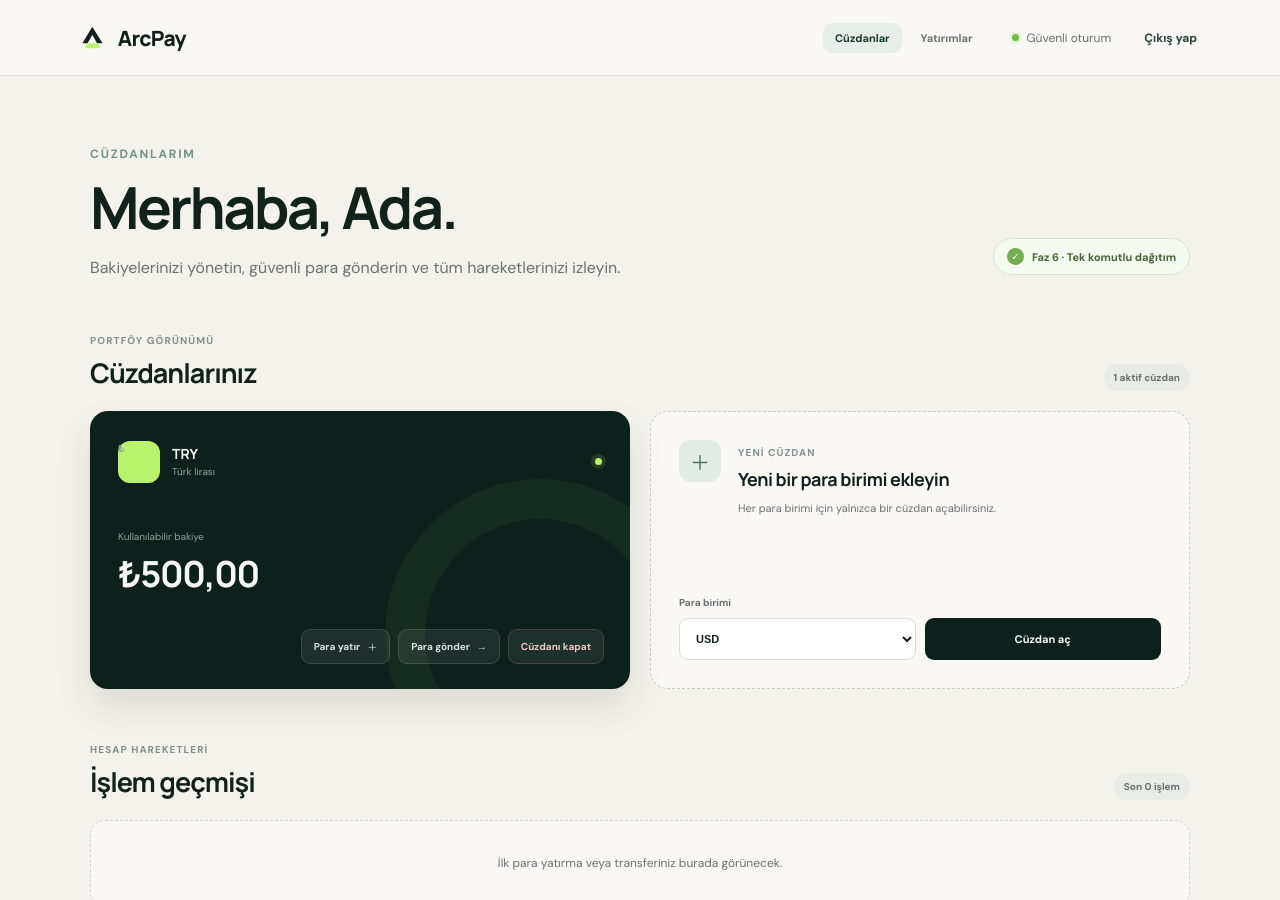
Test: ArcPay authentication flow › shows an unknown recipient error inside the transfer dialog
Expected: the text "₺500,00" is shown, [118,549,259,598]
Click the button "Para gönder →" at [449, 647], box [398,629,500,664]
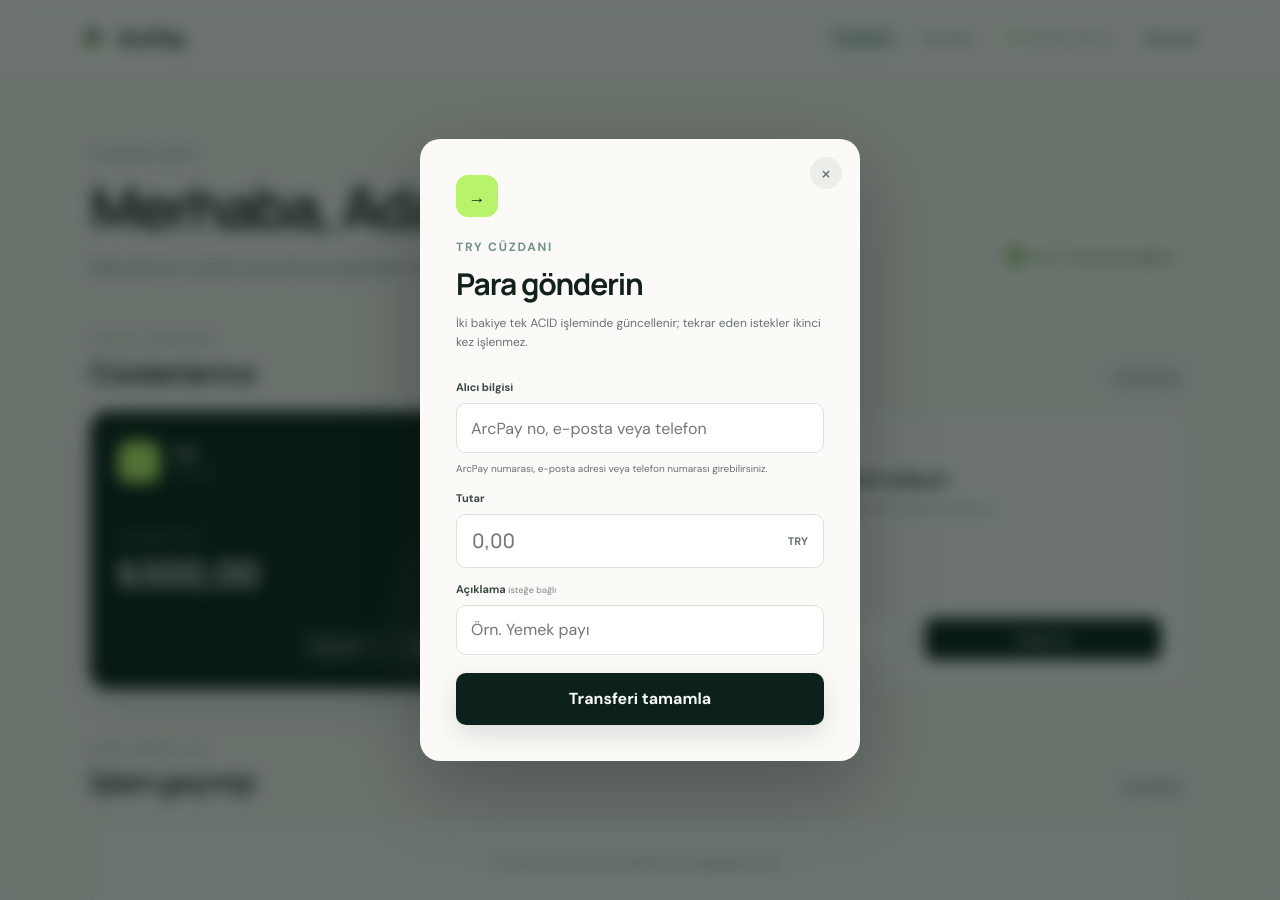
Type "yanlis@arcpay.test" into the field labelled "Alıcı bilgisi" at [640, 428], box [456,403,824,453]
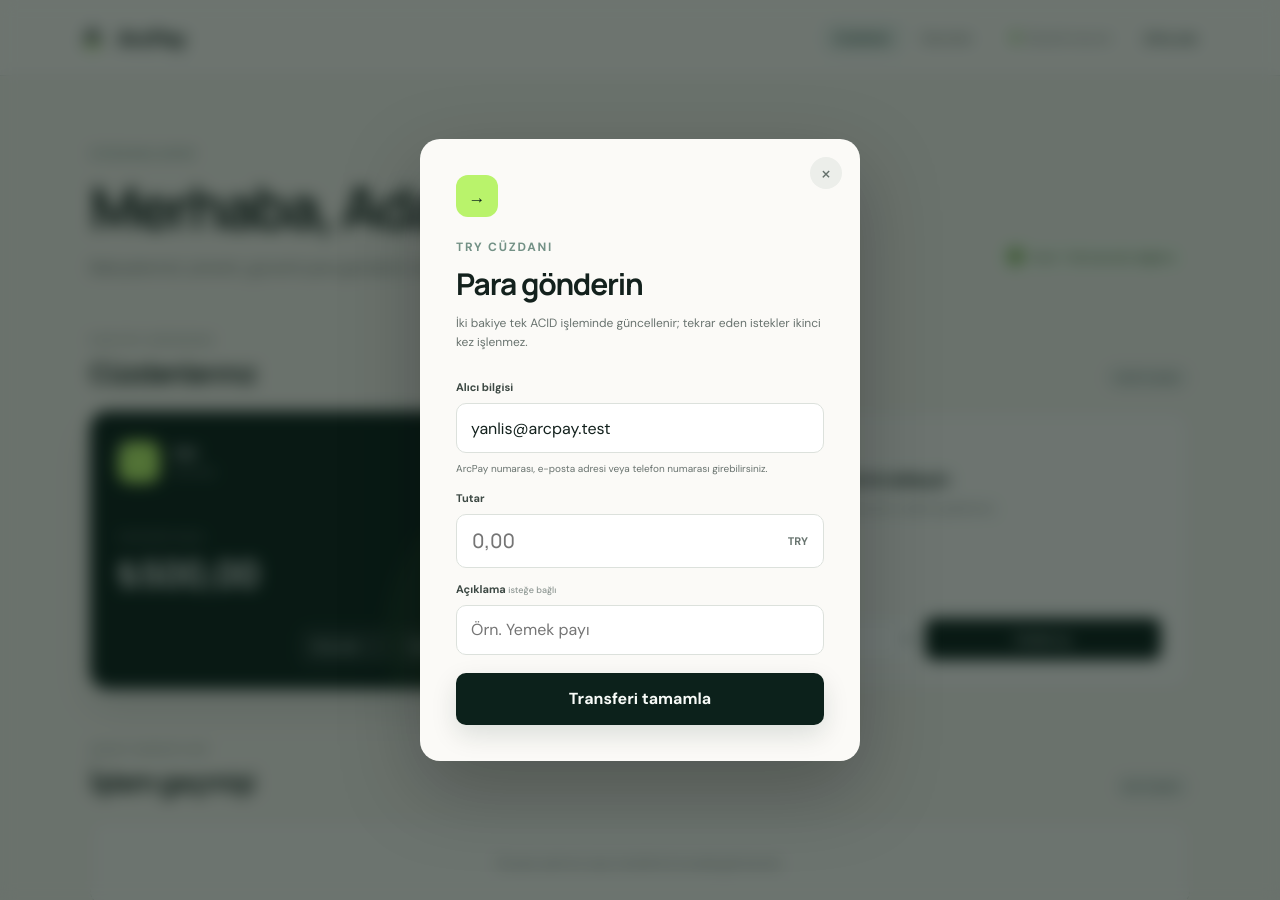
Type "10" into the field labelled "Tutar" at [615, 541], box [457,515,773,567]
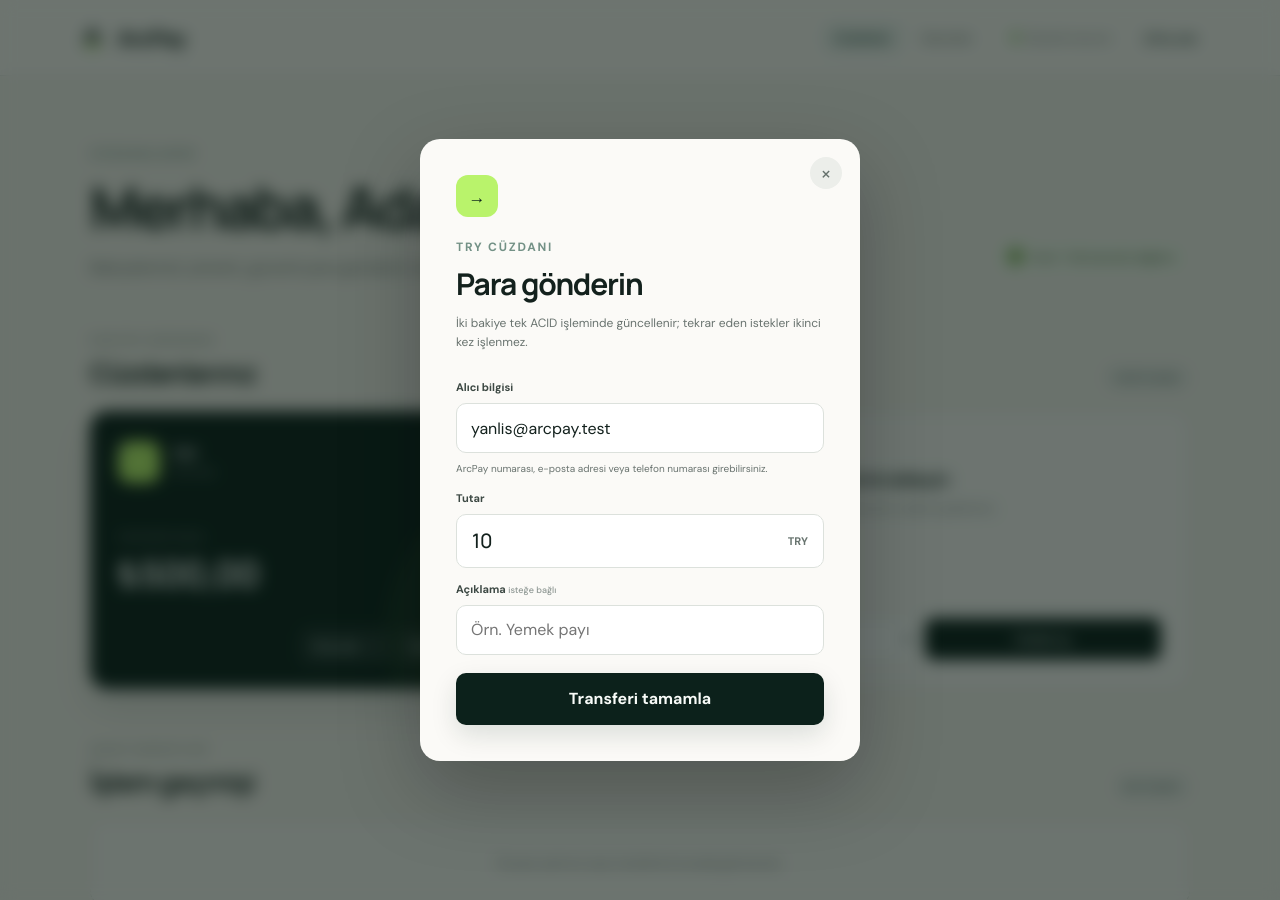
Click the button "Transferi tamamla" at [640, 699], box [456,673,824,725]
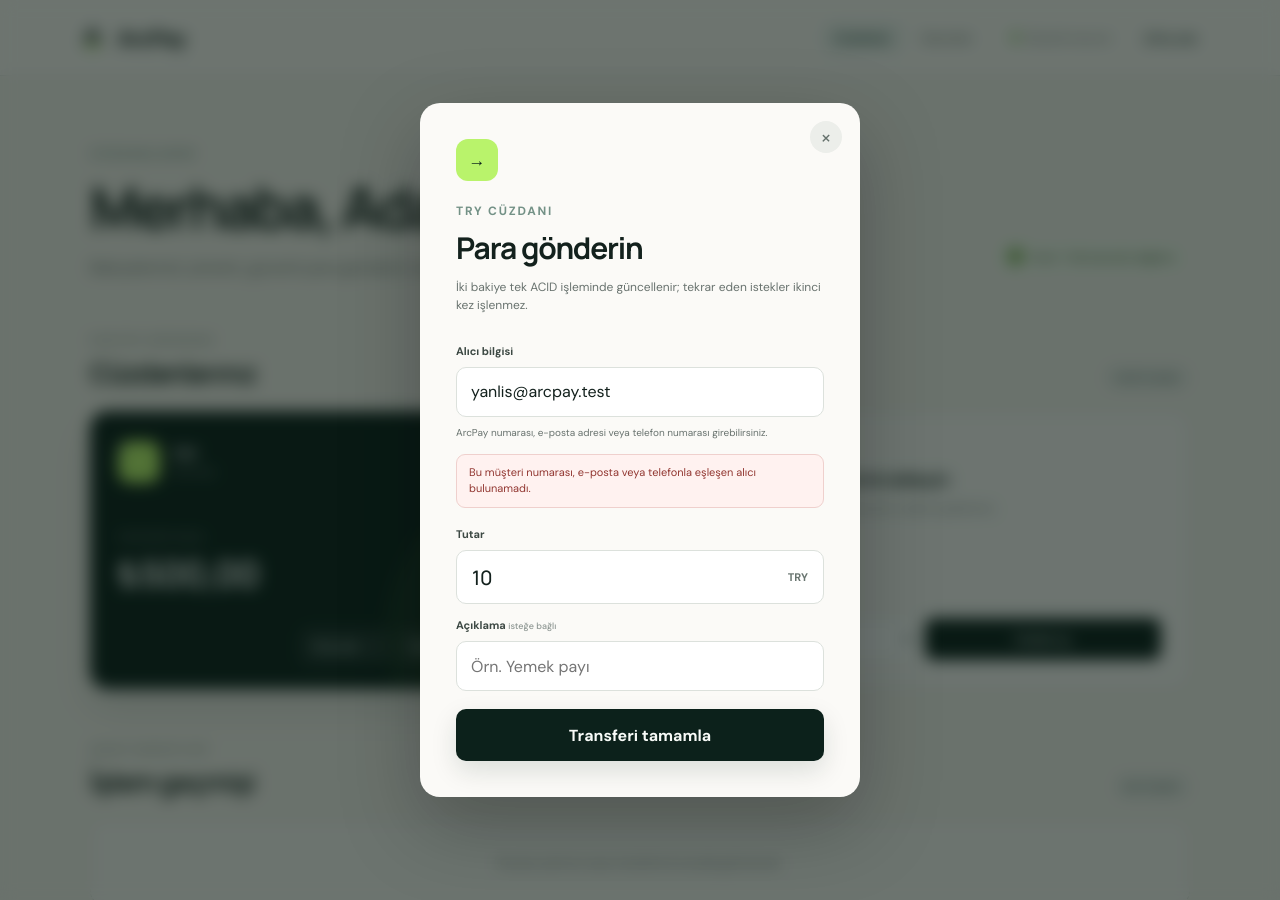
Expected: the text "Bu müşteri numarası, e-posta veya telefonla eşleşen alıcı bulunamadı." is shown, [456,454,824,508]
